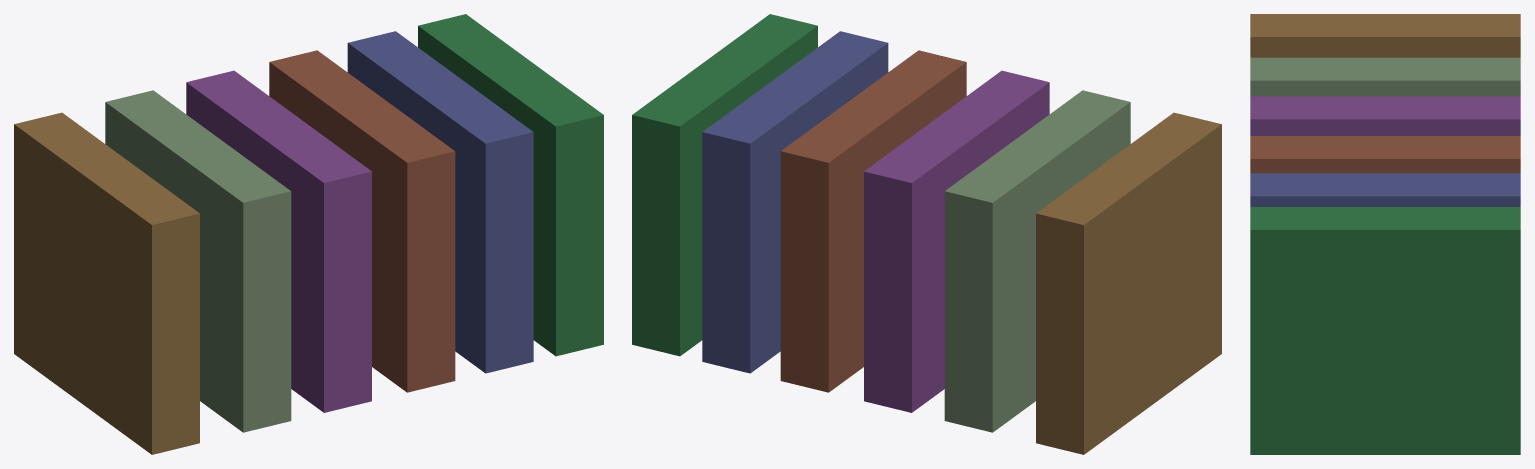
The model's file is books.fbx.
The picture shows the model from 3 angles, left to right: view 1: azimuth 30°, elevation 25°; view 2: azimuth 150°, elevation 25°; view 3: azimuth 270°, elevation 25°; orthographic projection. The views are drawn at different scales.
Visible parts, largest first — view 1: Cube.072, Cube.071, Cube.069, Cube.070, Cube.068, Cube.067; view 2: Cube.072, Cube.071, Cube.069, Cube.070, Cube.068, Cube.067; view 3: Cube.067, Cube.072, Cube.070, Cube.071, Cube.069, Cube.068.
Boxes of the visible parts, x1,y1,x2,y2 form: Cube.072: [14, 112, 199, 454]; Cube.071: [105, 90, 291, 432]; Cube.069: [269, 50, 455, 392]; Cube.070: [186, 70, 371, 412]; Cube.068: [347, 31, 533, 373]; Cube.067: [418, 14, 603, 356]; Cube.072: [1036, 112, 1221, 454]; Cube.071: [944, 90, 1130, 432]; Cube.069: [780, 50, 966, 392]; Cube.070: [864, 70, 1049, 412]; Cube.068: [702, 31, 888, 373]; Cube.067: [632, 14, 817, 356]; Cube.067: [1250, 207, 1520, 454]; Cube.072: [1250, 14, 1520, 57]; Cube.070: [1250, 96, 1520, 135]; Cube.071: [1250, 57, 1520, 96]; Cube.069: [1250, 136, 1520, 173]; Cube.068: [1250, 173, 1520, 206].
Size of the model in its own units: 77.17 by 37.5 by 40.79.
